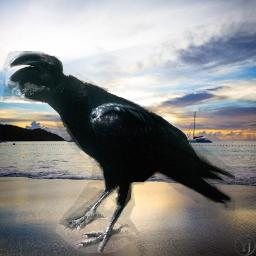Crow: (3, 51, 235, 253)
